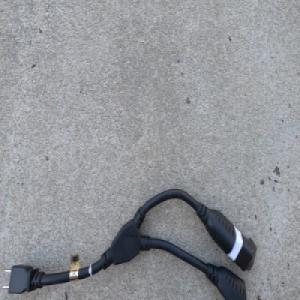Wire: (9, 188, 257, 300)
